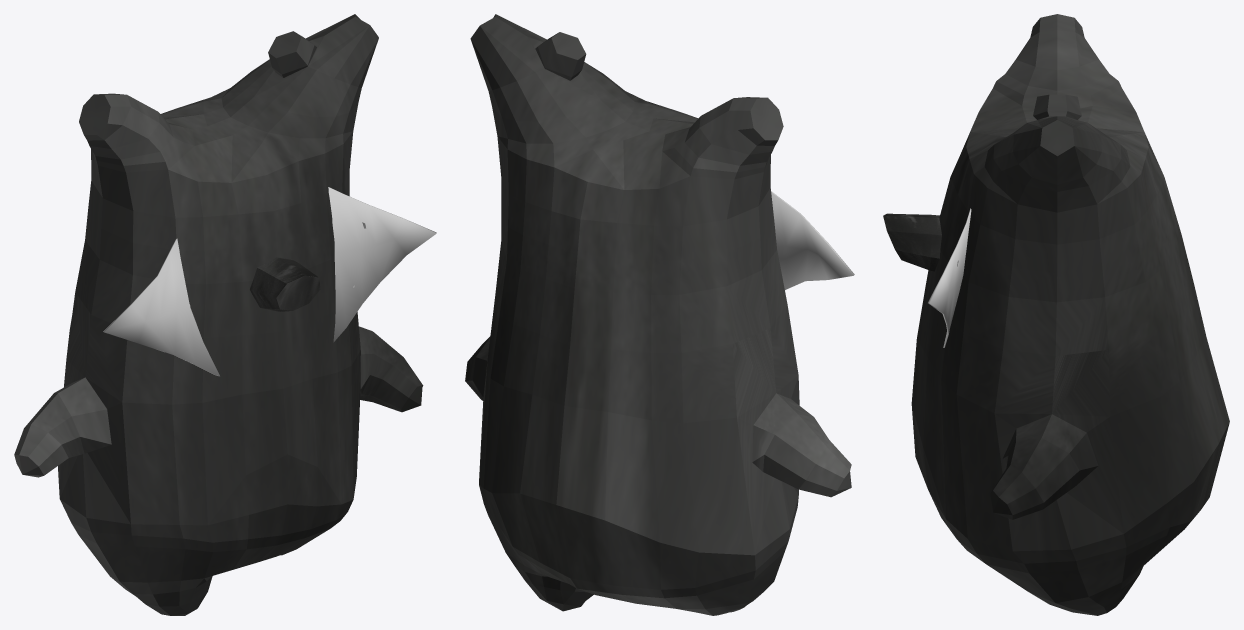
Rendered from frame_0015.obj.
3 views of the same model, side by side, from view 1: azimuth 30°, elevation 25°; view 2: azimuth 150°, elevation 25°; view 3: azimuth 270°, elevation 25° (orthographic). The views are drawn at different scales.
Visible parts, largest first — view 1: korok, leaf, nose; view 2: korok, leaf; view 3: korok, nose, leaf.
Part boxes in pixels (box(x1,y1,x2,y2)): korok: box(14, 14, 423, 615); leaf: box(103, 187, 436, 376); nose: box(250, 257, 320, 311); korok: box(465, 14, 851, 615); leaf: box(771, 191, 854, 289); korok: box(911, 14, 1229, 615); nose: box(883, 213, 941, 271); leaf: box(928, 208, 971, 347).
Size of the model in its own units: 1.62 by 2.17 by 1.27.
